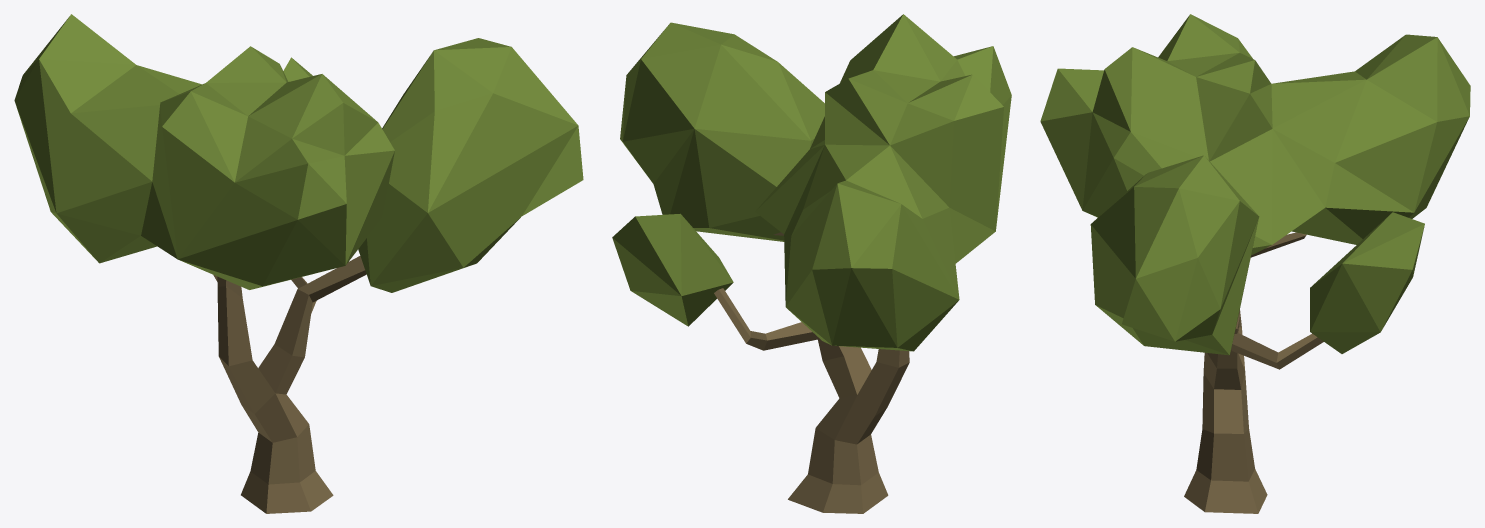
Rendered from Tree_5.fbx.
3 renders of one model, left to right at view 1: azimuth 30°, elevation 25°; view 2: azimuth 150°, elevation 25°; view 3: azimuth 270°, elevation 25°, orthographic. The views are drawn at different scales.
Parts seen in each view (by area): view 1: Tree_5; view 2: Tree_5; view 3: Tree_5.
Part boxes in pixels (x1=…): Tree_5: x1=14, y1=14, x2=583, y2=513; Tree_5: x1=612, y1=14, x2=1011, y2=513; Tree_5: x1=1040, y1=14, x2=1470, y2=513.
Bounding box in the file's own units: 356 × 366 × 323.
